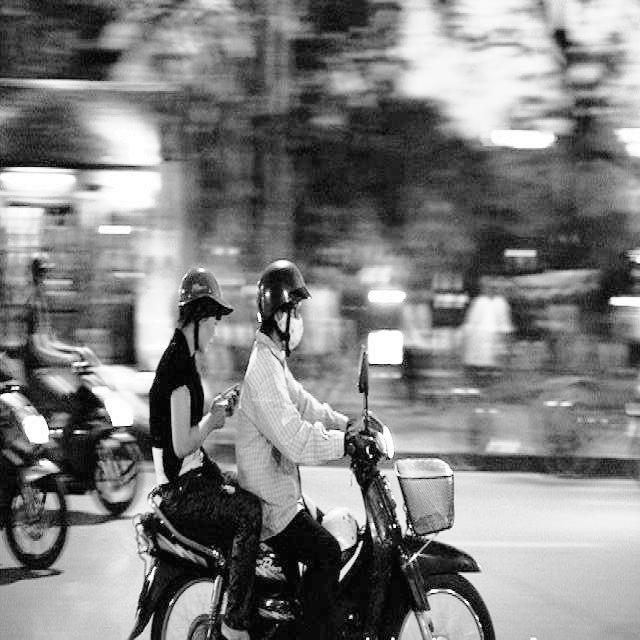Motorcycle: (135, 380, 505, 640), (9, 320, 138, 526), (0, 339, 74, 594)
Person: (239, 255, 357, 559), (134, 265, 238, 538)
